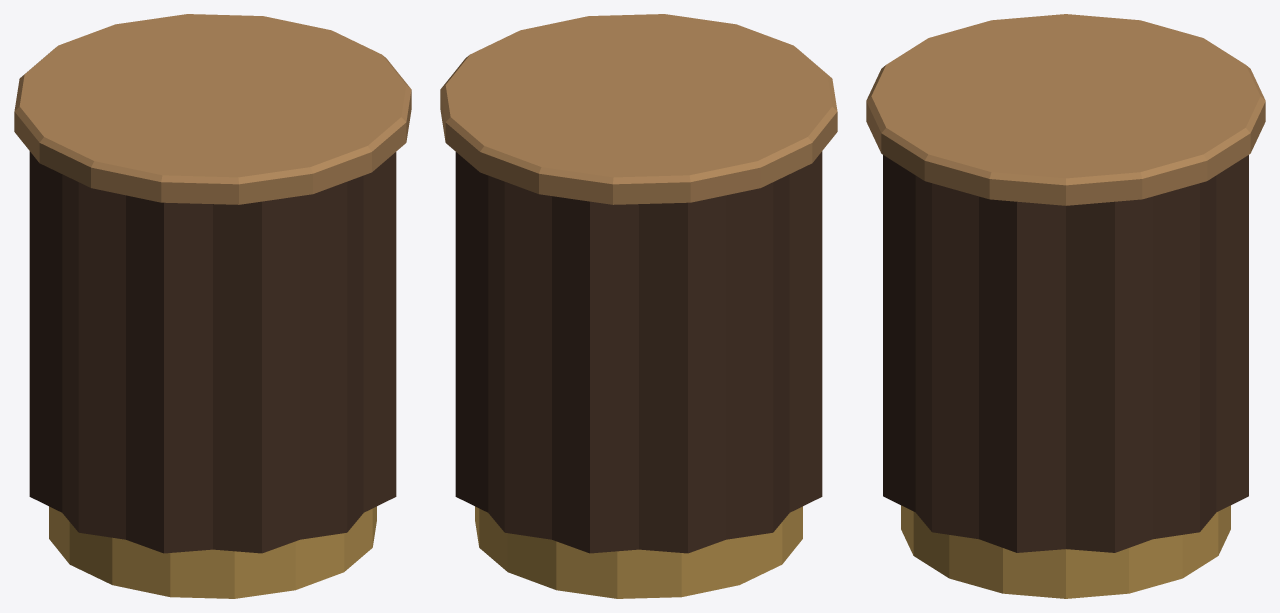
File: FN_Table_Side_Drum.glb
The picture shows the model from 3 angles, left to right: view 1: azimuth 30°, elevation 25°; view 2: azimuth 150°, elevation 25°; view 3: azimuth 270°, elevation 25°; orthographic projection.
Visible parts, largest first — view 1: FN_Table_Side_Drum; view 2: FN_Table_Side_Drum; view 3: FN_Table_Side_Drum.
Boxes of the visible parts, x1,y1,x2,y2 form: FN_Table_Side_Drum: [14, 14, 411, 598]; FN_Table_Side_Drum: [440, 14, 837, 598]; FN_Table_Side_Drum: [866, 14, 1265, 598].
Size of the model in its own units: 0.46 by 0.55 by 0.46.
Materials: 1 (1 with a texture image).
